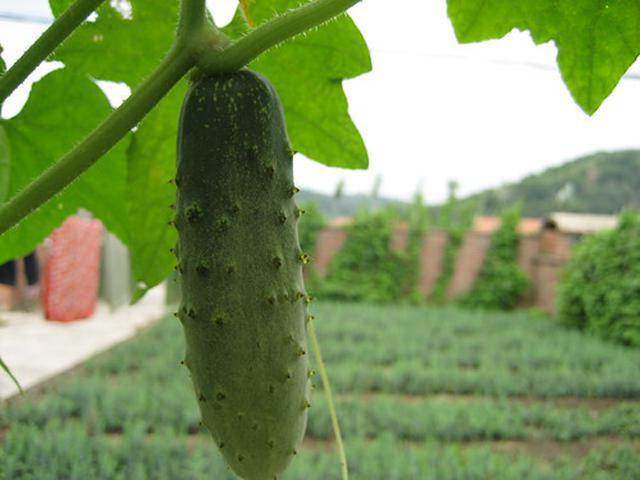cucumber: (175, 69, 307, 479)
